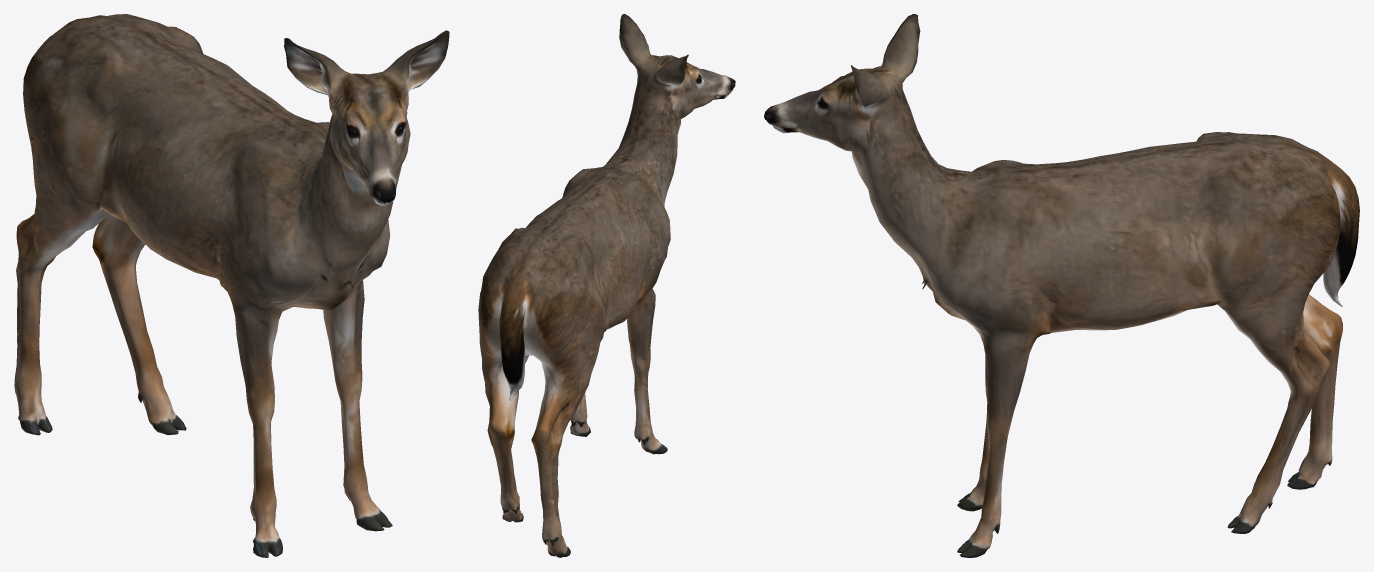
The model's file is deer.glb.
3 renders of one model, left to right at view 1: azimuth 30°, elevation 25°; view 2: azimuth 150°, elevation 25°; view 3: azimuth 270°, elevation 25°, orthographic. The views are drawn at different scales.
Parts seen in each view (by area): view 1: geometry_0; view 2: geometry_0; view 3: geometry_0.
Part boxes in pixels (bbox=[...]): geometry_0: bbox=[14, 14, 449, 557]; geometry_0: bbox=[478, 14, 735, 557]; geometry_0: bbox=[764, 14, 1359, 557].
Bounding box in the file's own units: 0.3101 × 0.8594 × 0.9497.
1 material, 1 textured.
